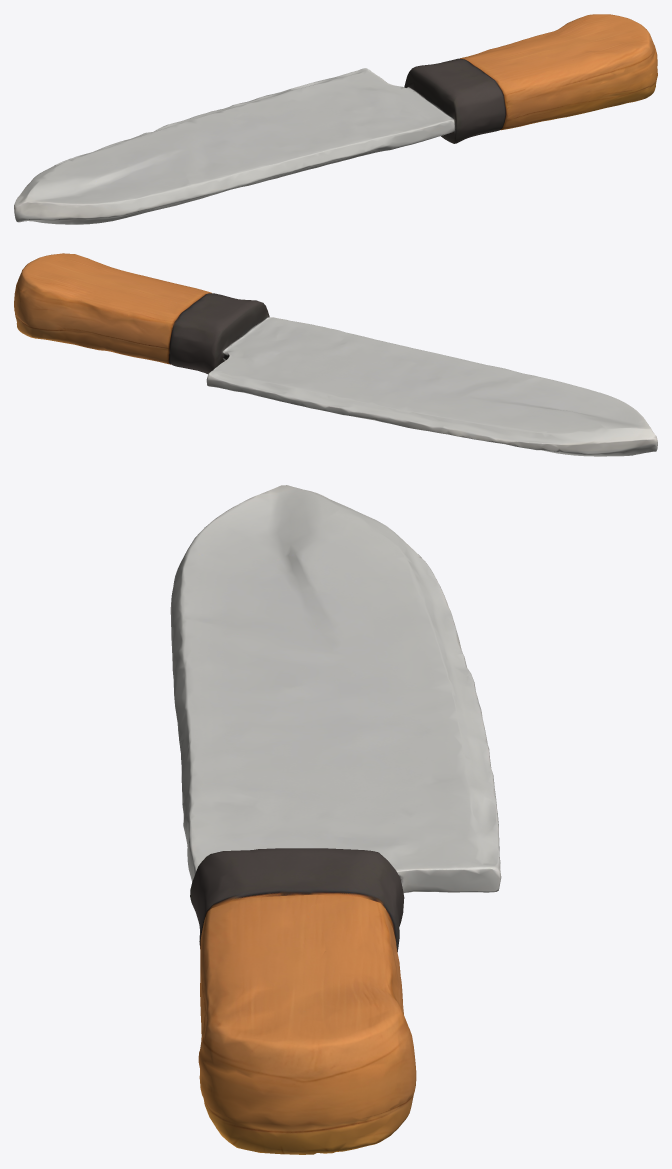
Rendered from kitchen-project-knife-v1.glb.
The picture shows the model from 3 angles, top to bottom: view 1: azimuth 30°, elevation 25°; view 2: azimuth 150°, elevation 25°; view 3: azimuth 270°, elevation 25°; orthographic projection. The views are drawn at different scales.
Visible parts, largest first — view 1: Dao Arena chef knife • broad face up; view 2: Dao Arena chef knife • broad face up; view 3: Dao Arena chef knife • broad face up.
Boxes of the visible parts, box(x1,y1,x2,y2) form: Dao Arena chef knife • broad face up: box(14, 14, 657, 224); Dao Arena chef knife • broad face up: box(14, 253, 657, 456); Dao Arena chef knife • broad face up: box(170, 485, 501, 1154).
Bounding box in the file's own units: 1 × 0.0866 × 0.2267.
1 material, 1 textured.
